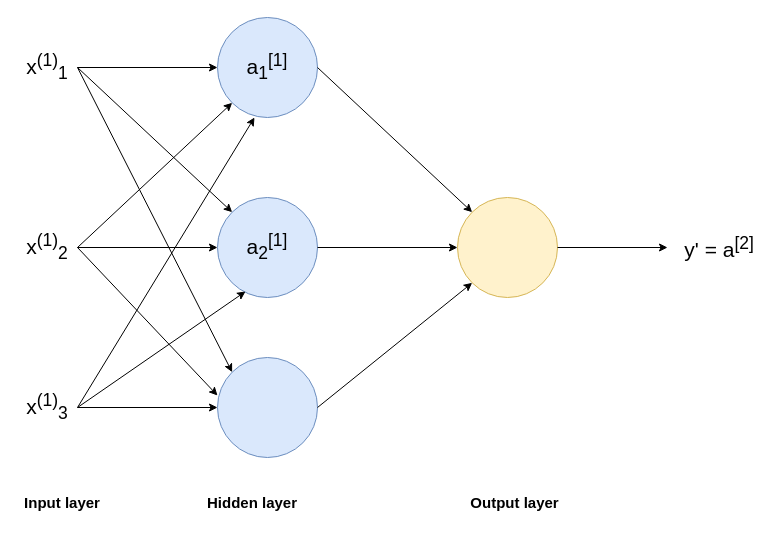
Some shapes in this 784 by 535 pixel diagram are drawn without their labels. Here are the shapes that lost their labels. From the top down, the centre of each, then its label:
pixel 507 247: a 1 [2]
pixel 267 407: a 3 [1]
